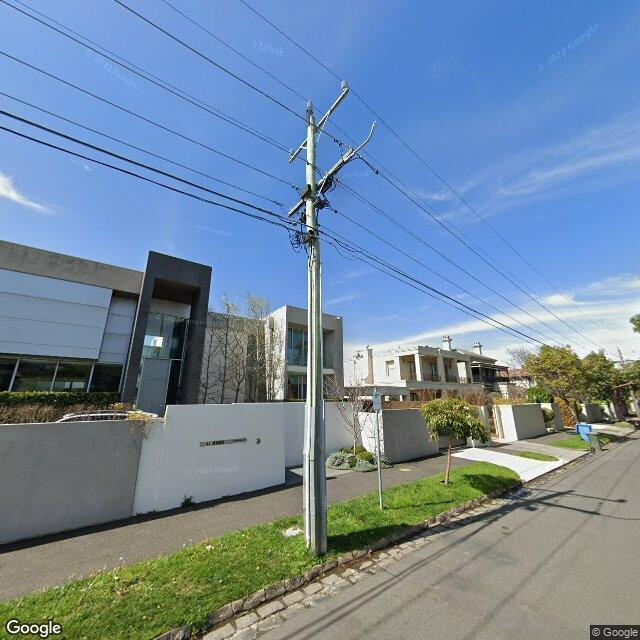HV-transmission: (289, 80, 348, 157)
crossarm: (288, 148, 355, 216), (288, 88, 348, 162), (612, 360, 634, 362)
timber-pole: (305, 116, 327, 556), (617, 347, 640, 419)
